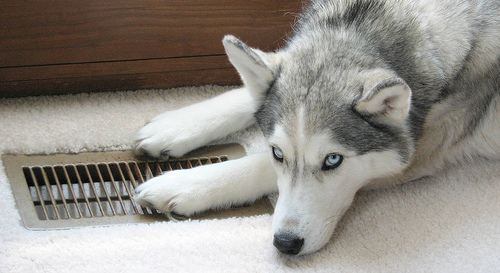dog: (131, 0, 499, 257)
